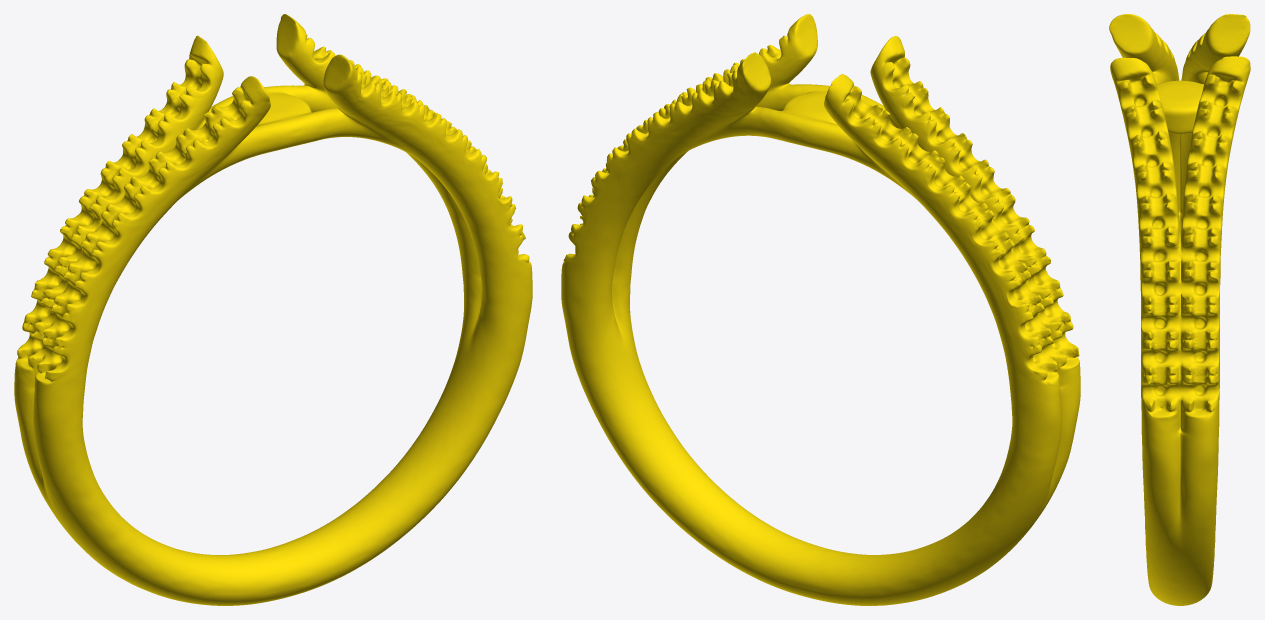
The model's file is Shank_Two row split_U Prong_A_No, Hidden Halo_Band.glb.
The picture shows the model from 3 angles, left to right: view 1: azimuth 30°, elevation 25°; view 2: azimuth 150°, elevation 25°; view 3: azimuth 270°, elevation 25°; orthographic projection.
Size of the model in its own units: 0.0212 by 0.0225 by 0.0053.
